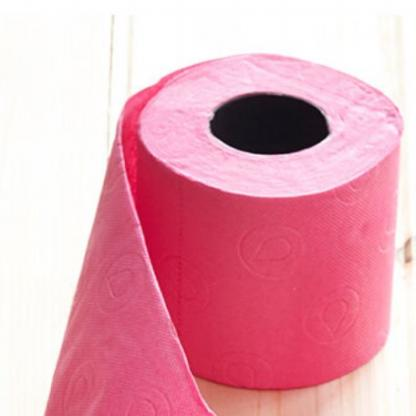tissue: (35, 41, 408, 416)
